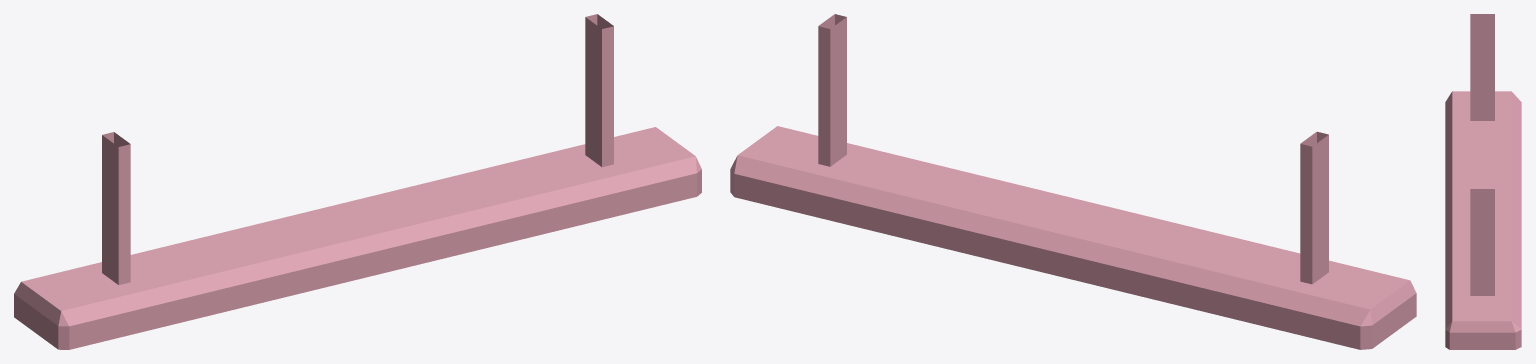
Rendered from CeilingLampFluorescent.fbx.
3 renders of one model, left to right at view 1: azimuth 30°, elevation 25°; view 2: azimuth 150°, elevation 25°; view 3: azimuth 270°, elevation 25°, orthographic. The views are drawn at different scales.
Visible parts, largest first — view 1: CeilingLampFluorescent; view 2: CeilingLampFluorescent; view 3: CeilingLampFluorescent.
Part boxes in pixels (<box>): CeilingLampFluorescent: <box>14,14,701,349</box>; CeilingLampFluorescent: <box>730,14,1416,349</box>; CeilingLampFluorescent: <box>1445,14,1521,349</box>.
Size of the model in its own units: 193 by 52.22 by 26.59.
